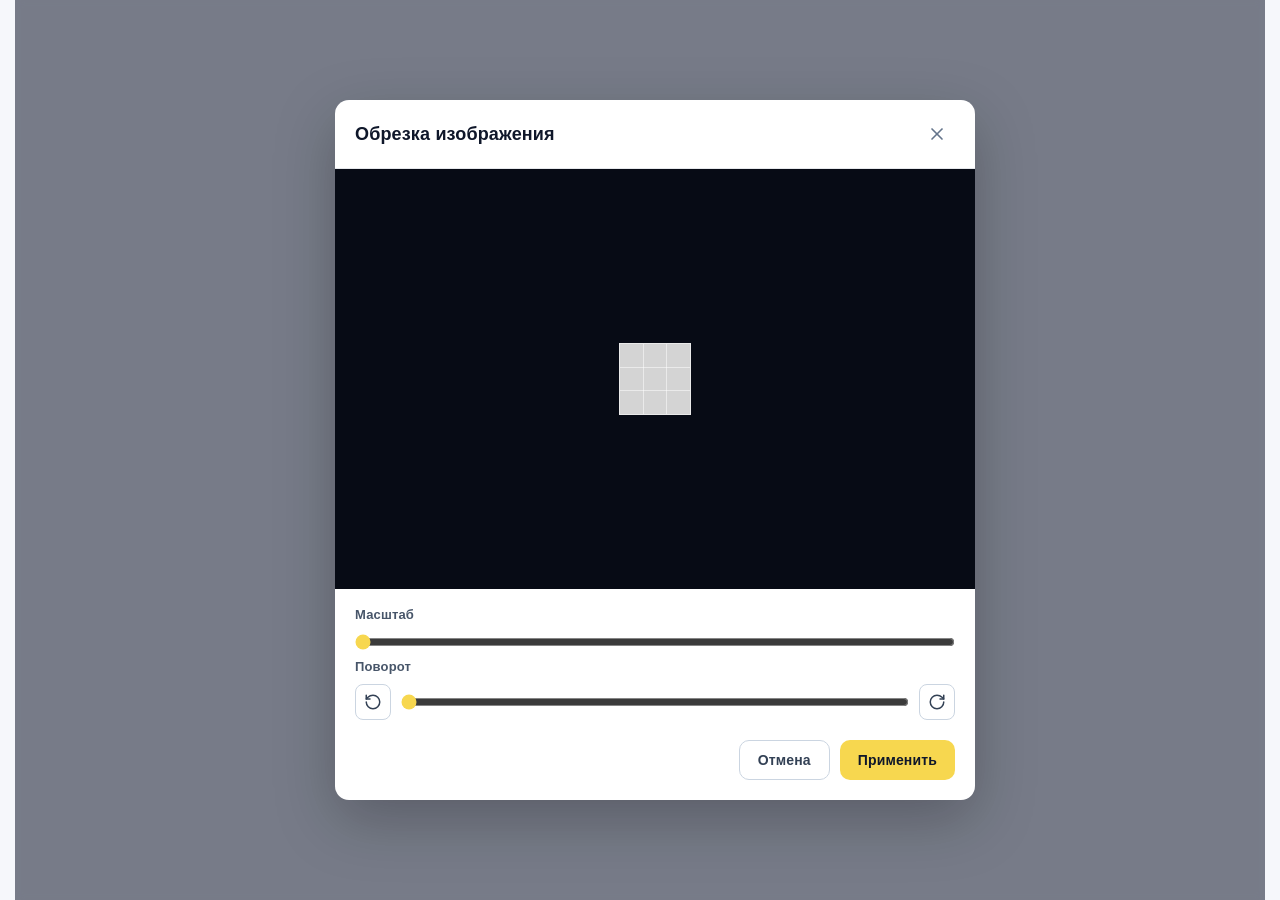
Scenario: ImageCropperModal › кнопка поворота на 90° по часовой обновляет слайдер поворота
Expected: the slider labelled "Поворот" holds "0", [401,694,909,710]
Click the button named "Повернуть по часовой стрелке на 90°" at (937, 702), box [919,684,955,720]
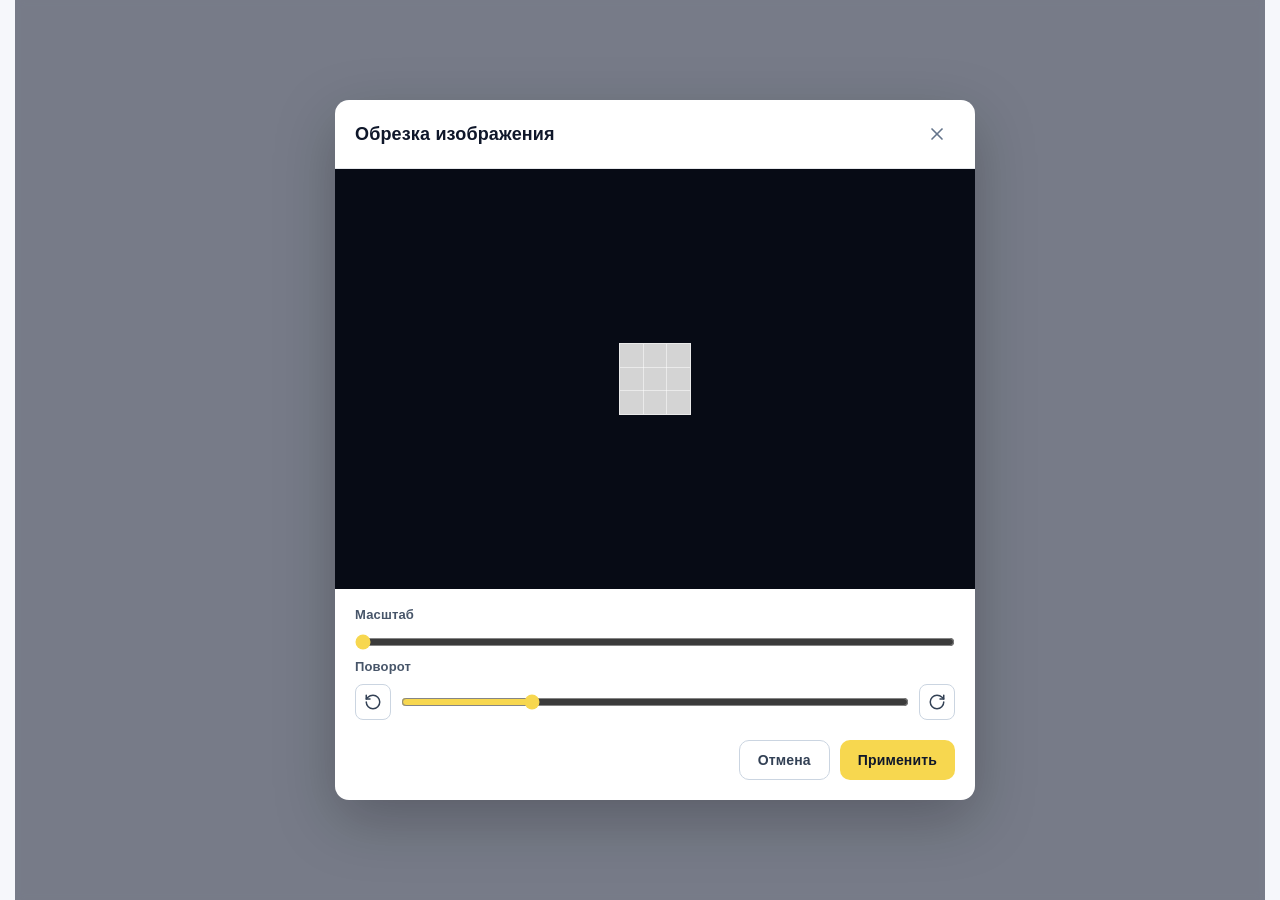
Expected: the slider labelled "Поворот" holds "90", [401,694,909,710]
Click the button named "Повернуть по часовой стрелке на 90°" at (937, 702), box [919,684,955,720]
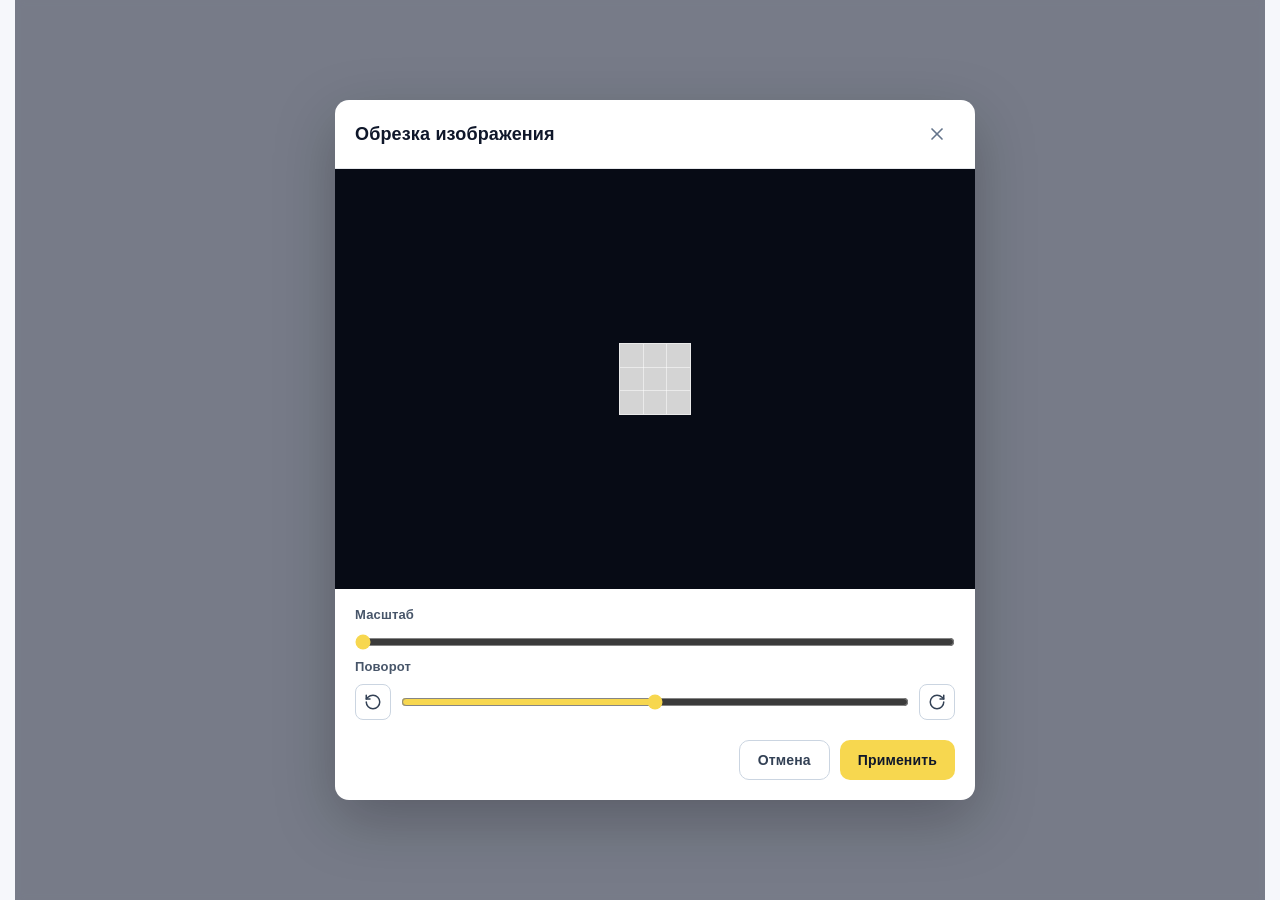
Expected: the slider labelled "Поворот" holds "180", [401,694,909,710]
